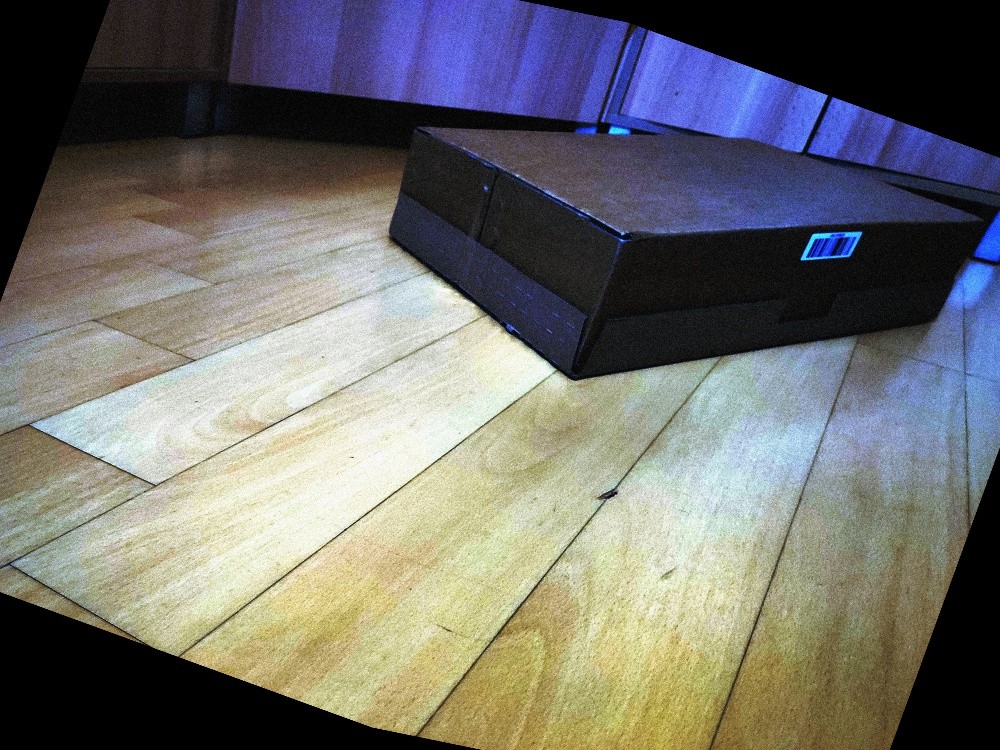good-parcel: (373, 110, 992, 390)
